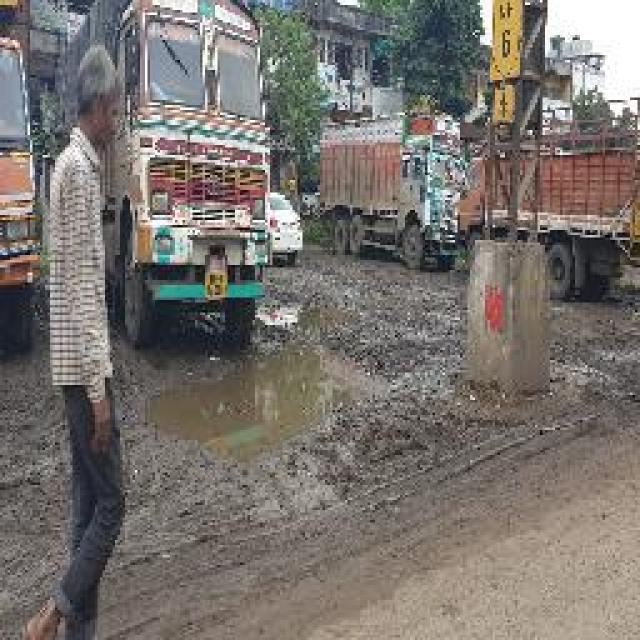waterlogging: (156, 343, 379, 470)
